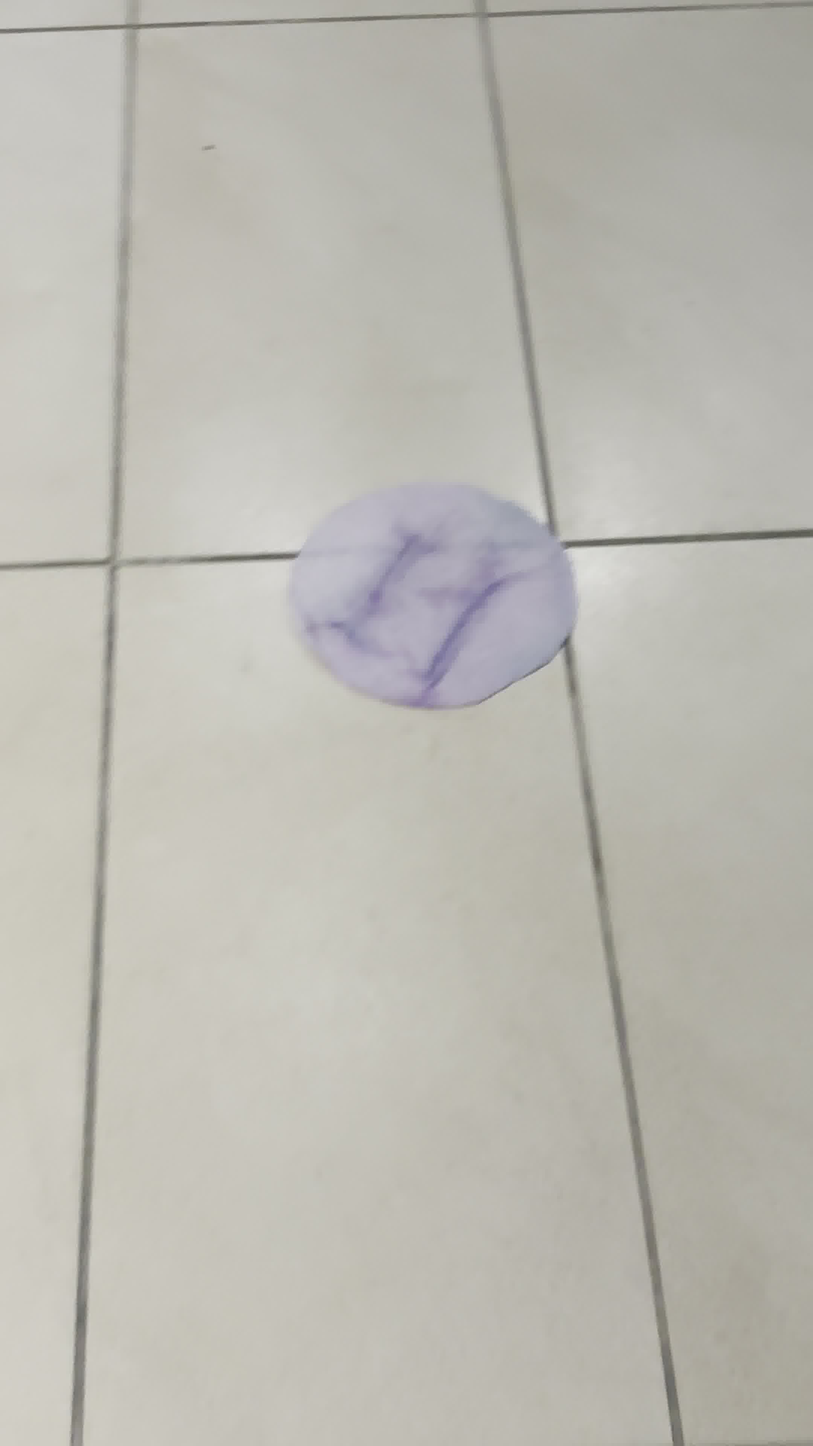Target: (290, 478, 578, 712)
